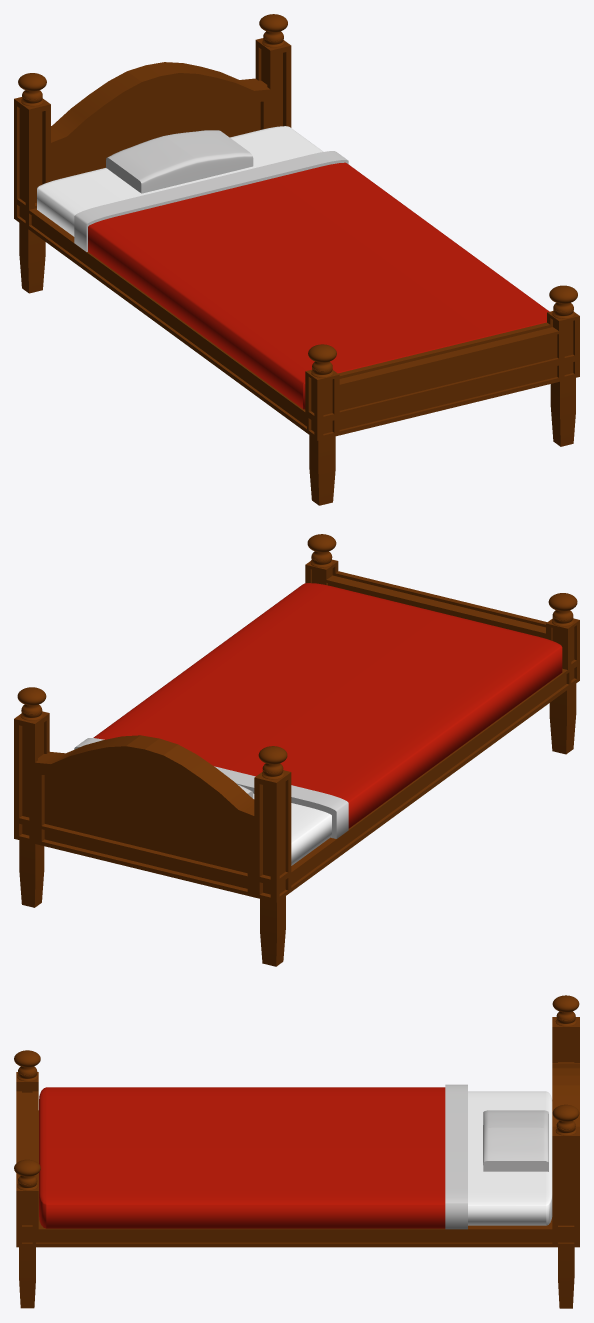
The model's file is bed4.glb.
The picture shows the model from 3 angles, top to bottom: view 1: azimuth 30°, elevation 25°; view 2: azimuth 150°, elevation 25°; view 3: azimuth 270°, elevation 25°; orthographic projection. The views are drawn at different scales.
Parts seen in each view (by area): view 1: Roundcube; view 2: Roundcube; view 3: Roundcube.
Boxes of the visible parts, bbox=[...] form: Roundcube: bbox=[14, 14, 579, 505]; Roundcube: bbox=[14, 534, 579, 966]; Roundcube: bbox=[14, 995, 579, 1308].
Bounding box in the file's own units: 9.99 × 7.68 × 19.81.
Materials: 5 (5 with a texture image).
